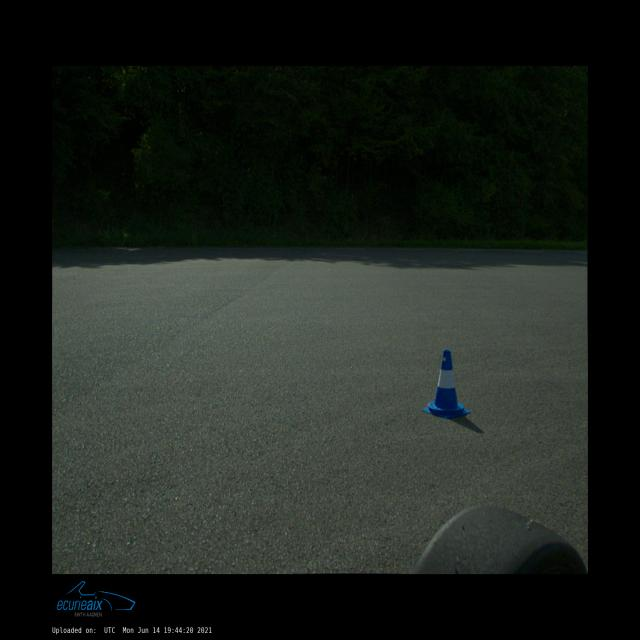blue_cone: (422, 350, 470, 418)
